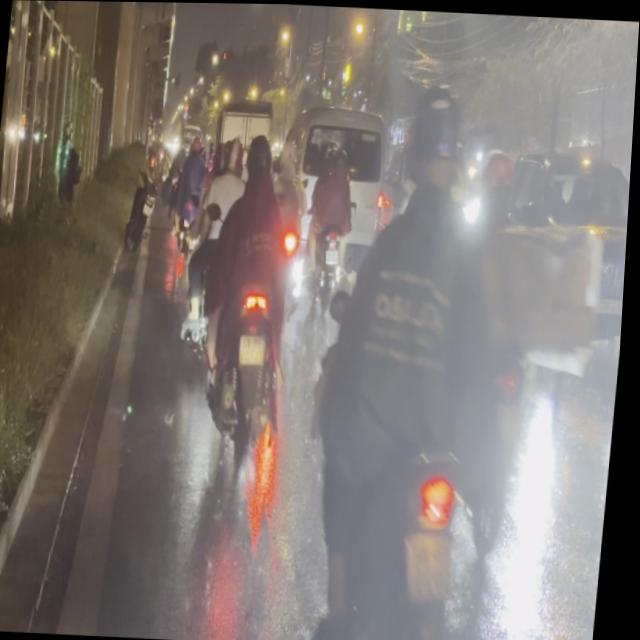helmet: (405, 75, 469, 193), (243, 128, 280, 189)
licenseplate: (306, 66, 534, 640), (190, 123, 315, 451)
nohelmet: (407, 528, 460, 597), (242, 332, 270, 362)
